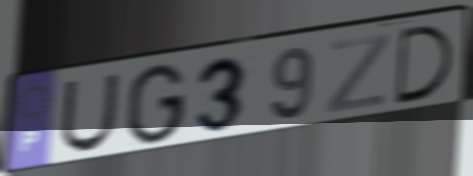3: (193, 52, 254, 139)
9: (269, 45, 314, 122)
D: (393, 22, 458, 108)
G: (123, 62, 189, 148)
U: (57, 71, 122, 156)
Z: (324, 29, 394, 116)
